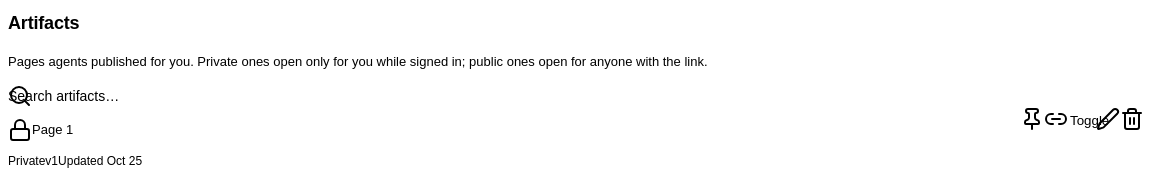
ArtifactsSettingsTab › searches by title on the server
Expected: the link "Page 1" is shown, [32,122,73,137]
Type " Page 7 " into the search field labelled "Search artifacts".
click(576, 96); type(" Page 7 ")  # box [8,85,1144,107]
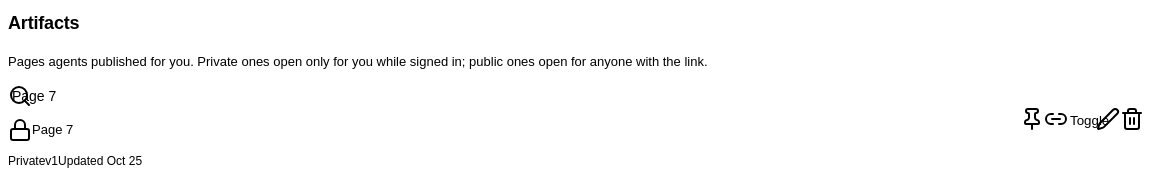
Result: the link "Page 7" is shown at [32,122,73,137]
